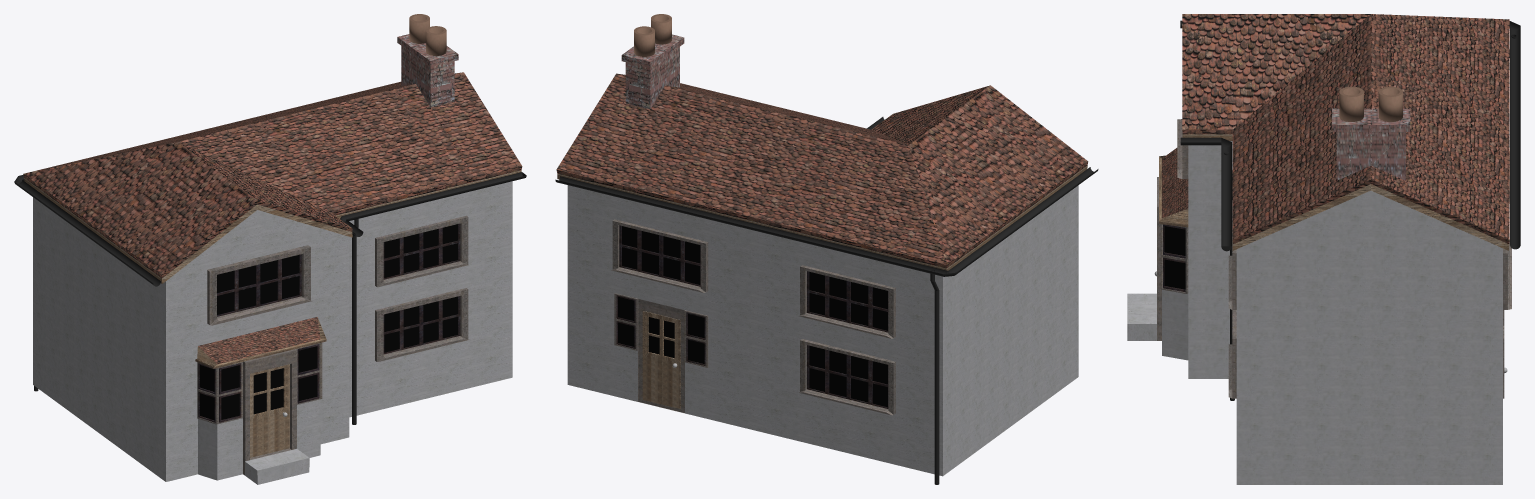
File: old_countryside_house1.glb
The picture shows the model from 3 angles, left to right: view 1: azimuth 30°, elevation 25°; view 2: azimuth 150°, elevation 25°; view 3: azimuth 270°, elevation 25°; orthographic projection. The views are drawn at different scales.
Parts seen in each view (by area): view 1: Old House, Front Door; view 2: Old House, Back Door; view 3: Old House.
Boxes of the visible parts, x1=… form: Old House: x1=14, y1=14, x2=526, y2=484; Front Door: x1=250, y1=364, x2=289, y2=457; Old House: x1=555, y1=14, x2=1098, y2=484; Back Door: x1=642, y1=311, x2=680, y2=408; Old House: x1=1127, y1=14, x2=1520, y2=484.
Bounding box in the file's own units: 8.89 × 7.08 × 6.54.
10 materials, 8 textured.
